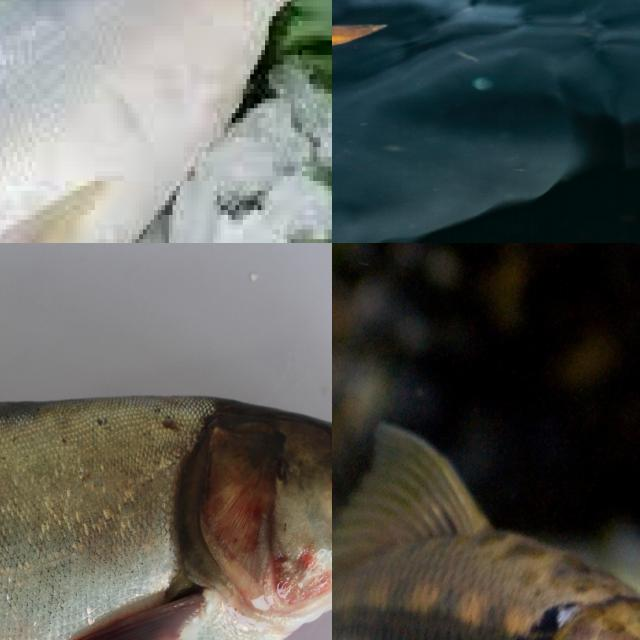fish: (0, 330, 332, 640), (0, 0, 332, 243), (332, 0, 640, 243), (332, 413, 640, 640)
